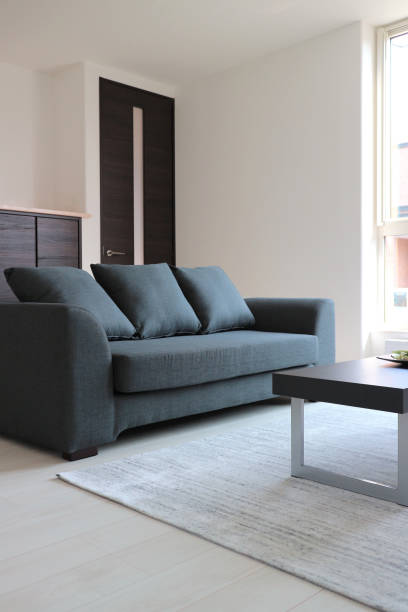sofa: (1, 260, 340, 465)
table: (270, 347, 408, 508)
